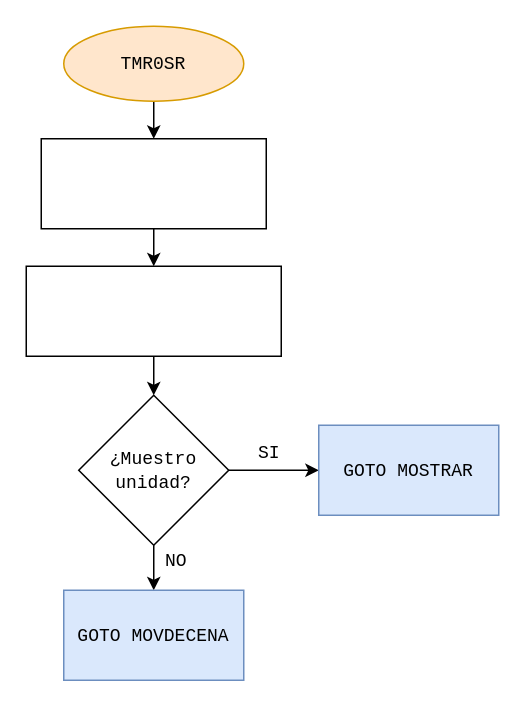
This 525x707 diagram has some shape labels left out. The shapes that lost their labels are listed below. From the top down, each one's centre as x and y in pixels, then its label:
point (153, 183): Bajar bandera T0IF
point (153, 310): Cargar TMR0 nuevamente
